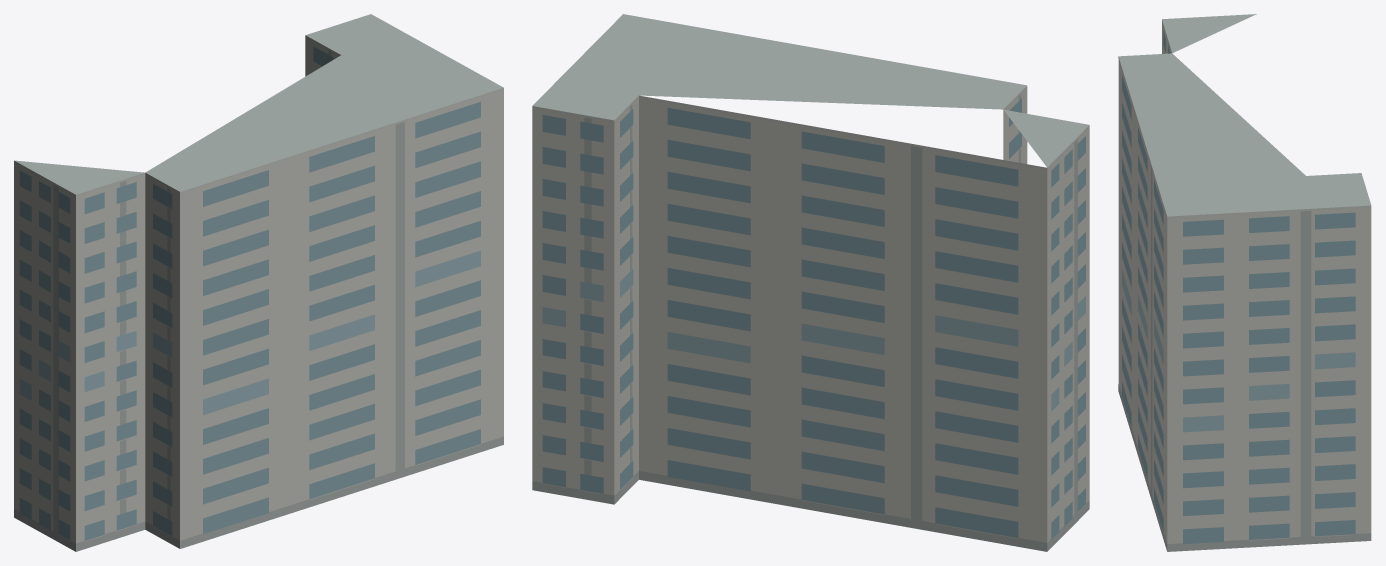
File: residential-8134c178-438c-43ba-b023-8fee6b358628.glb
3 renders of one model, left to right at view 1: azimuth 30°, elevation 25°; view 2: azimuth 150°, elevation 25°; view 3: azimuth 270°, elevation 25°, orthographic. The views are drawn at different scales.
Visible parts, largest first — view 1: residential-8134c178-438c-43ba-b023-8fee6b358628.tmp; view 2: residential-8134c178-438c-43ba-b023-8fee6b358628.tmp; view 3: residential-8134c178-438c-43ba-b023-8fee6b358628.tmp.
Boxes of the visible parts, bbox=[...] form: residential-8134c178-438c-43ba-b023-8fee6b358628.tmp: bbox=[14, 14, 503, 551]; residential-8134c178-438c-43ba-b023-8fee6b358628.tmp: bbox=[532, 14, 1089, 551]; residential-8134c178-438c-43ba-b023-8fee6b358628.tmp: bbox=[1118, 14, 1371, 551].
Size of the model in its own units: 53.12 by 41 by 28.03.
